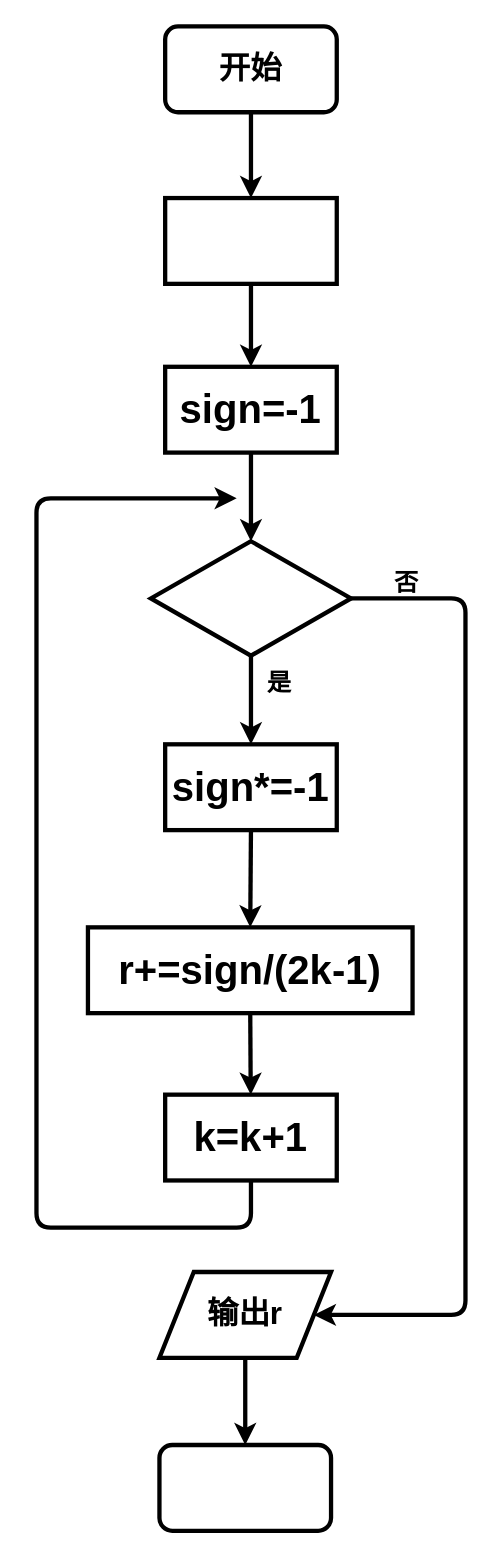
Some shapes in this 503 by 1557 pixel diagram are drawn without their labels. The centre of each missing label's shape, as x and y in pixels:
k<=1000: (x=250, y=597)
r=0 , k =1: (x=250, y=240)
结束: (x=244, y=1487)
